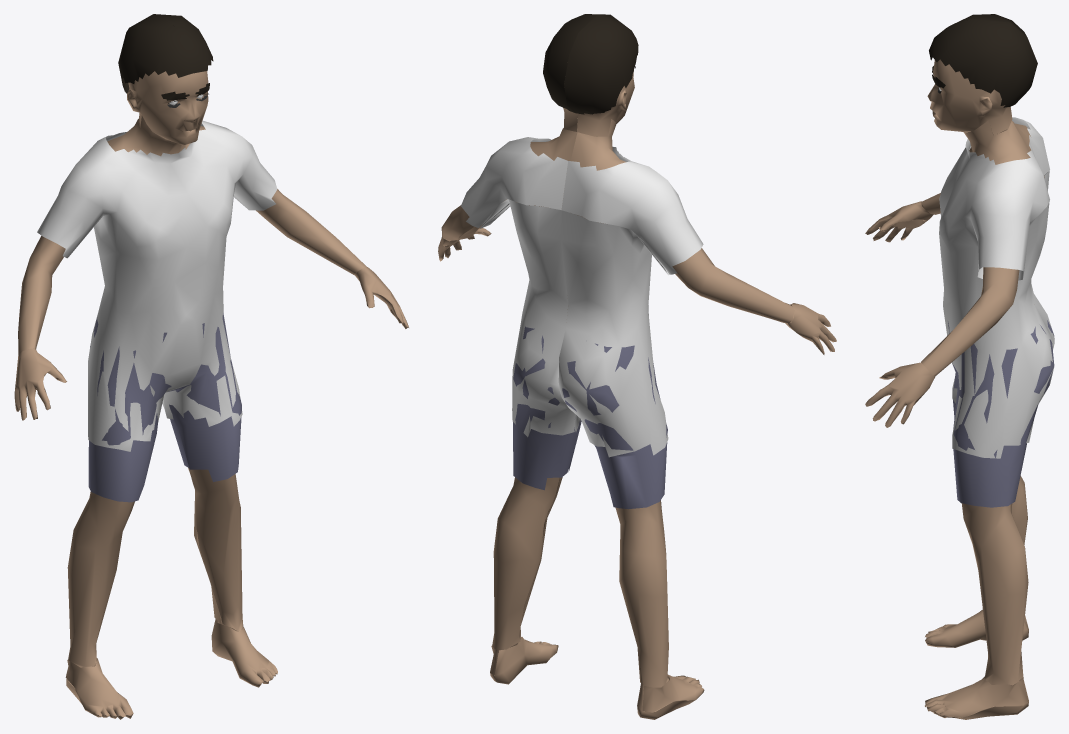
The model's file is child_02.glb.
The picture shows the model from 3 angles, left to right: view 1: azimuth 30°, elevation 25°; view 2: azimuth 150°, elevation 25°; view 3: azimuth 270°, elevation 25°; orthographic projection.
Visible parts, largest first — view 1: crowd; view 2: crowd; view 3: crowd.
Boxes of the visible parts, <box> form: crowd: <box>14,14,408,719</box>; crowd: <box>438,14,836,719</box>; crowd: <box>865,14,1054,719</box>.
Size of the model in its own units: 0.8501 by 1.4 by 0.3654.
